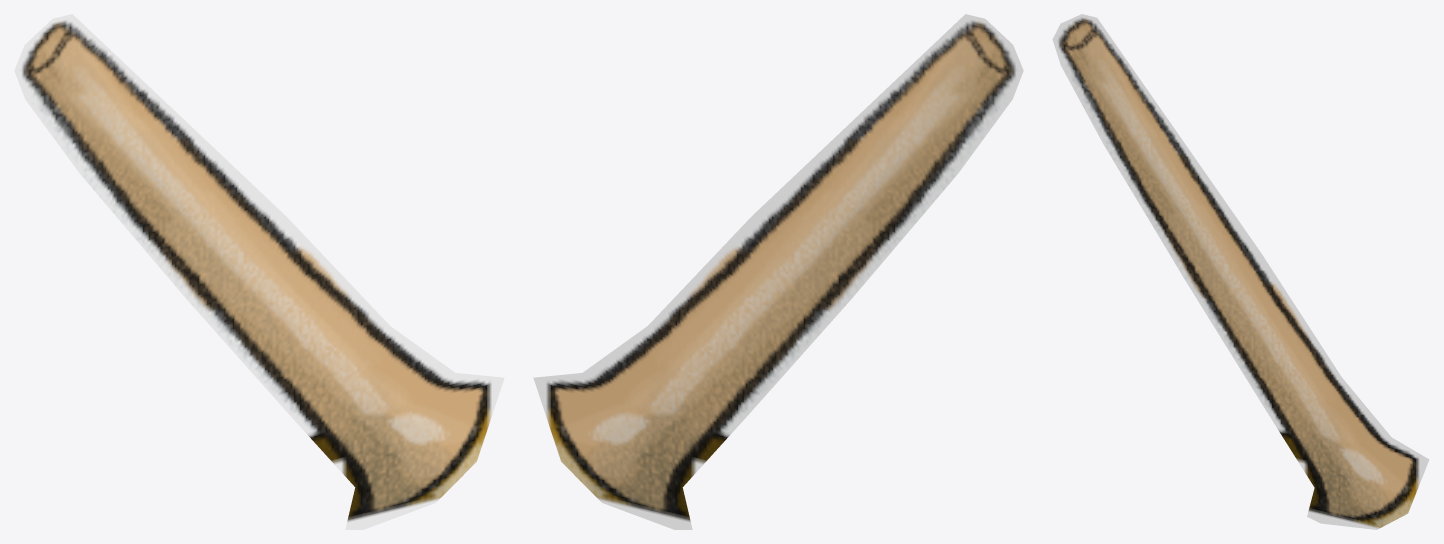
File: pistala_1.glb
3 views of the same model, side by side, from view 1: azimuth 30°, elevation 25°; view 2: azimuth 150°, elevation 25°; view 3: azimuth 330°, elevation 25° (orthographic). The views are drawn at different scales.
Parts seen in each view (by area): view 1: Plane.005; view 2: Plane.005; view 3: Plane.005.
Part boxes in pixels (box(x1,y1,x2,y2)): Plane.005: box(14, 14, 504, 529); Plane.005: box(533, 14, 1023, 529); Plane.005: box(1052, 14, 1429, 529).
Size of the model in its own units: 4.08 by 4.67 by 0.
Materials: 1 (1 with a texture image).
